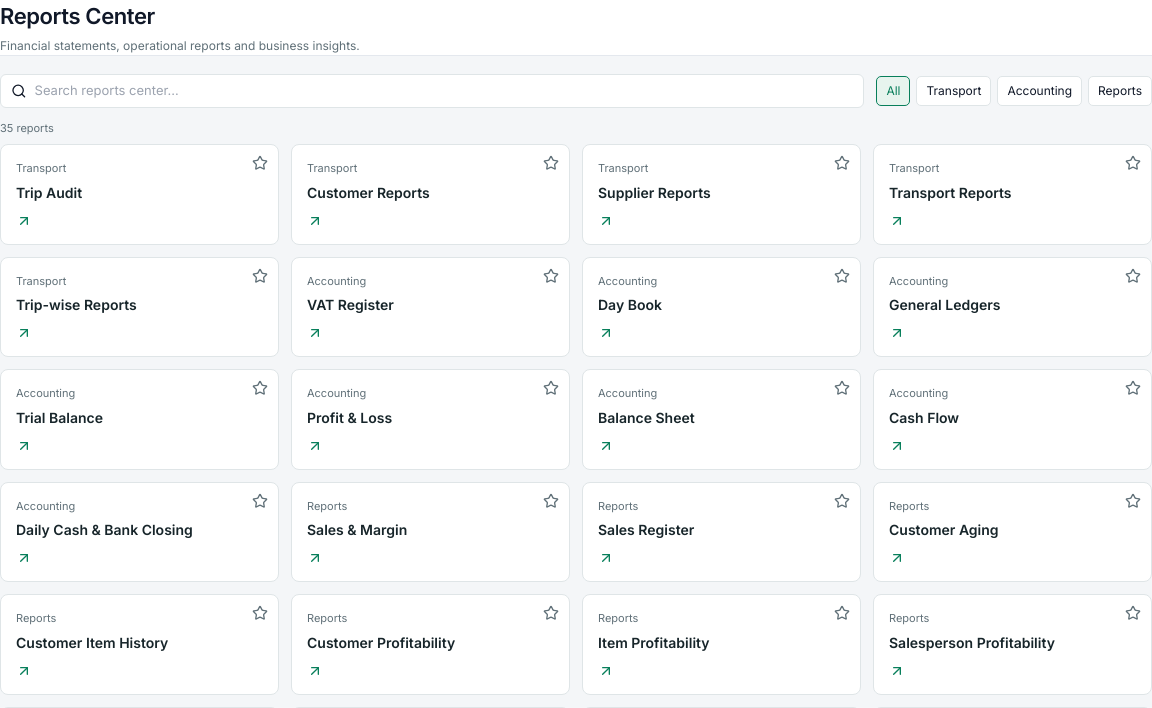
Test: workspace catalog access and identity › searches the central report catalog without changing report routes
This screenshot has width=1152, height=708.
Step 1. Type "trial balance" into the field labelled "Search reports center" → (444, 91), box [34,81,853,100]
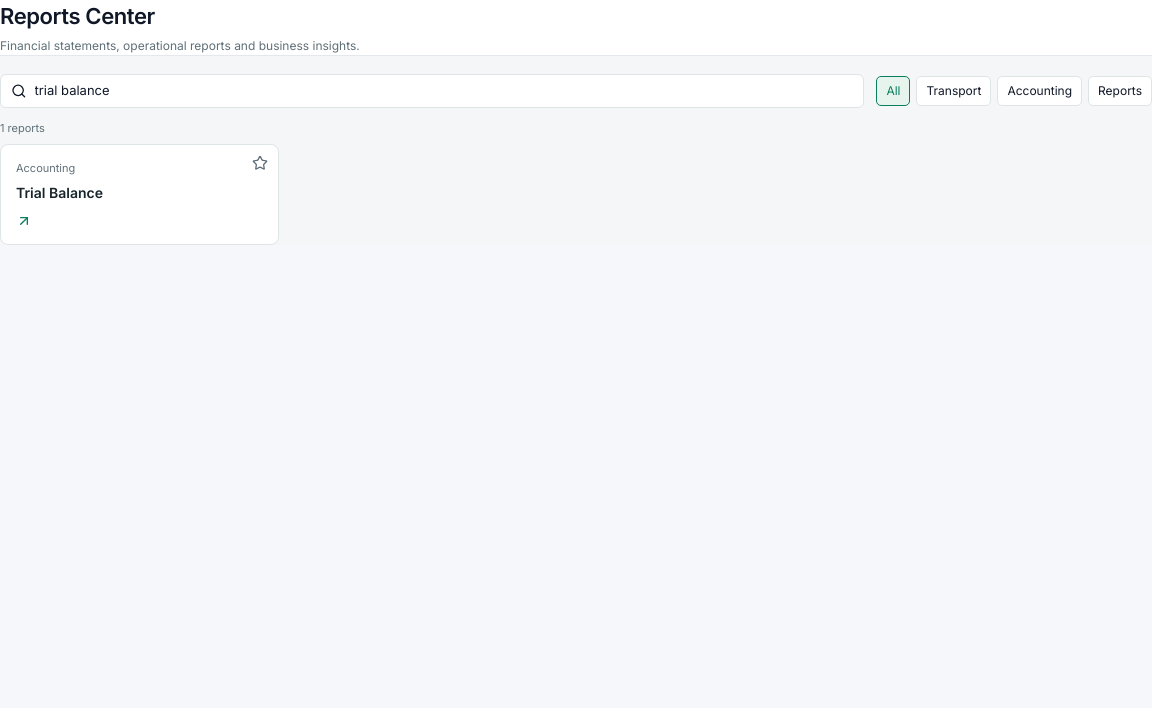
Expected: the link "Cash Flow" is gone
